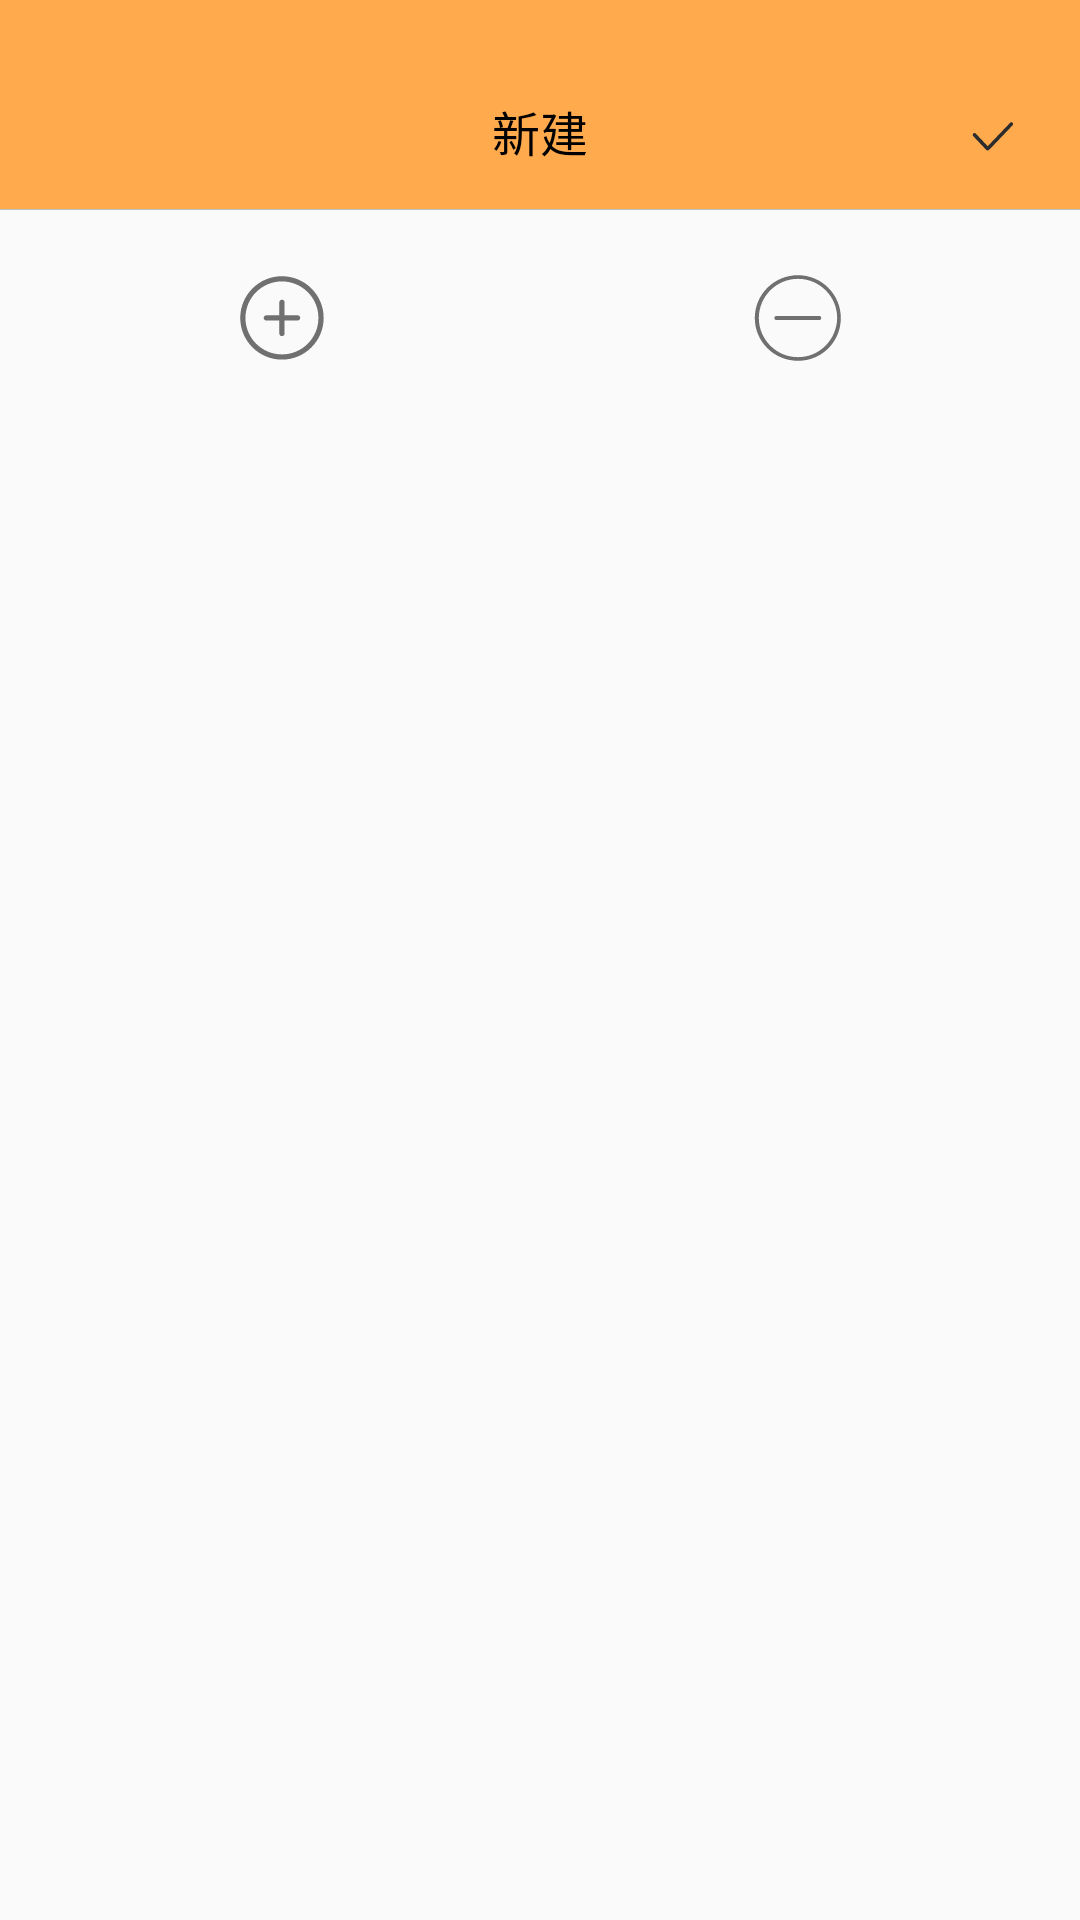

Named icons in this screenshot (1080×1920) and their bounding boxes, (x1, y1, x2, y2):
completed: (972, 122, 1013, 151)
fragment add: (240, 276, 324, 360)
fragment add delete: (754, 275, 841, 361)
